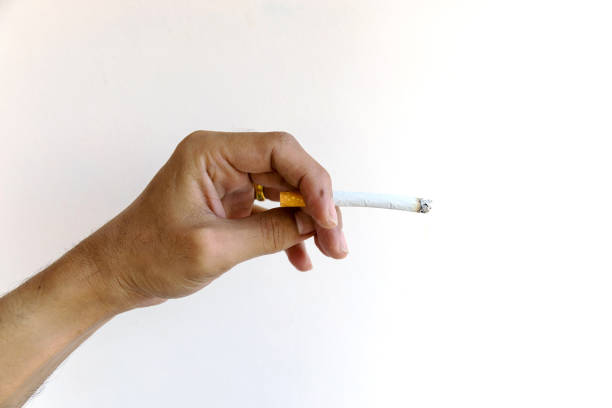cigarette: (276, 188, 431, 214)
